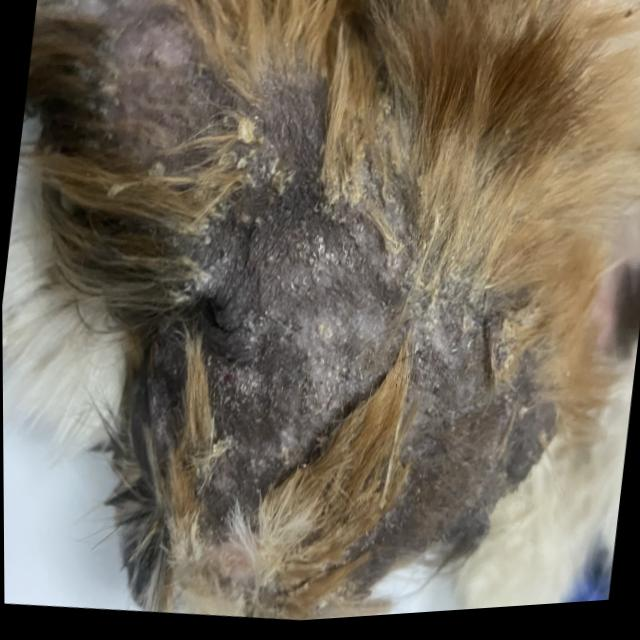demodicosis: (212, 145, 414, 490), (403, 292, 546, 512), (91, 29, 232, 169)
